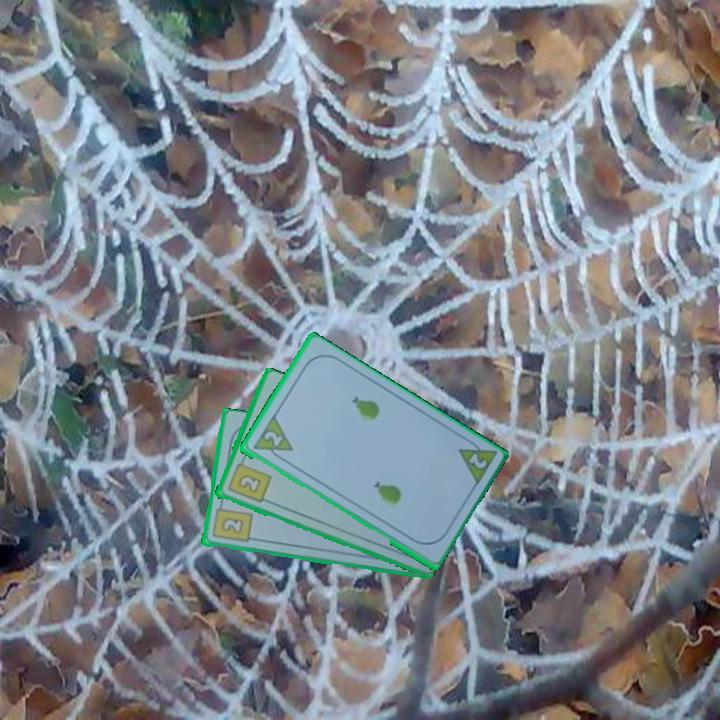2b: (224, 455, 273, 506), (209, 499, 254, 546)
2p: (260, 427, 285, 450), (465, 450, 490, 472)
